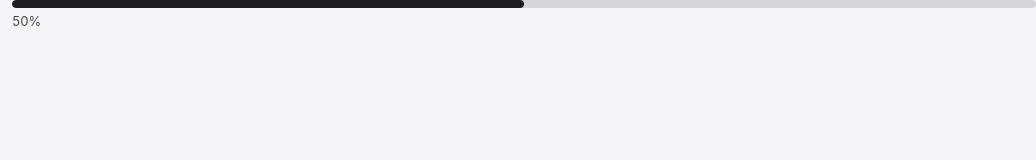
canvas edits render committed document state › commits a dragged progress value after the pointer is released
Later steps or results of the test are not shown.
Press the mouse on the slider named "Progress value" at (524, 4), box [12, 0, 1035, 8]
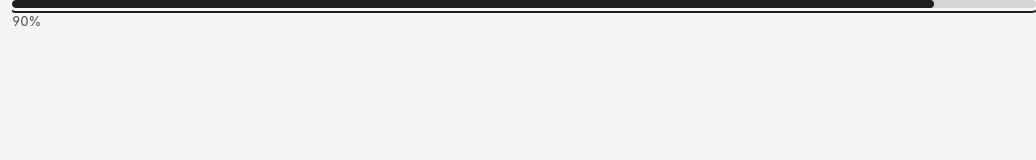
Now the slider named "Progress value" has attribute aria-valuenow="90", box [12, 0, 1035, 8]
